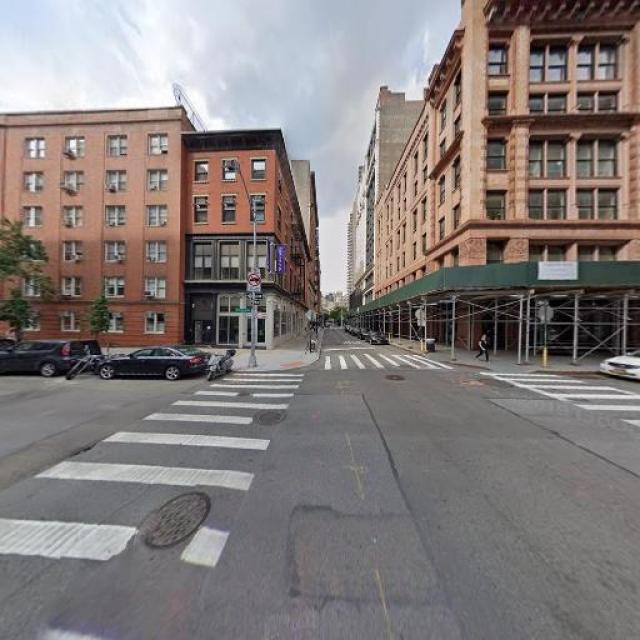Building: (378, 1, 640, 354), (1, 109, 178, 352), (182, 126, 287, 353)
